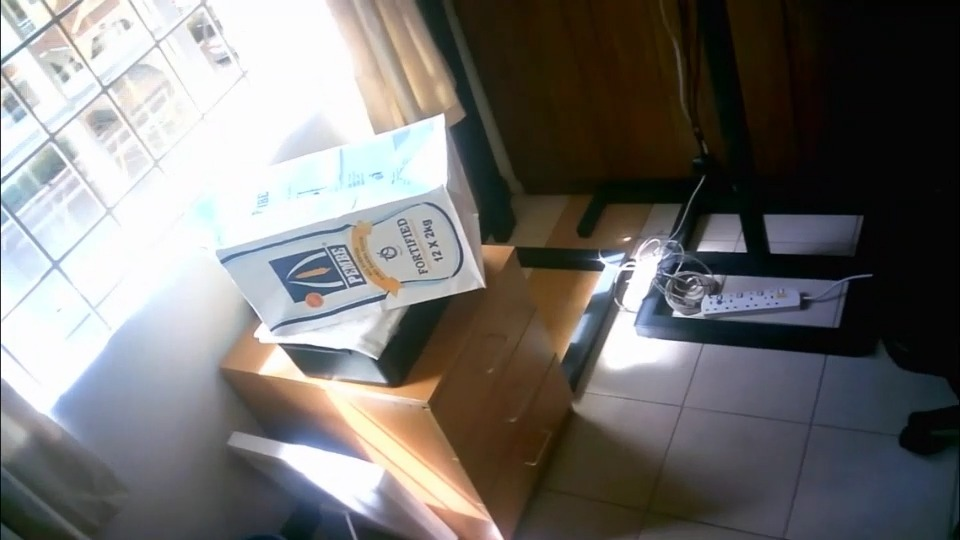wheat_flour_blue_label: (212, 114, 485, 329)
